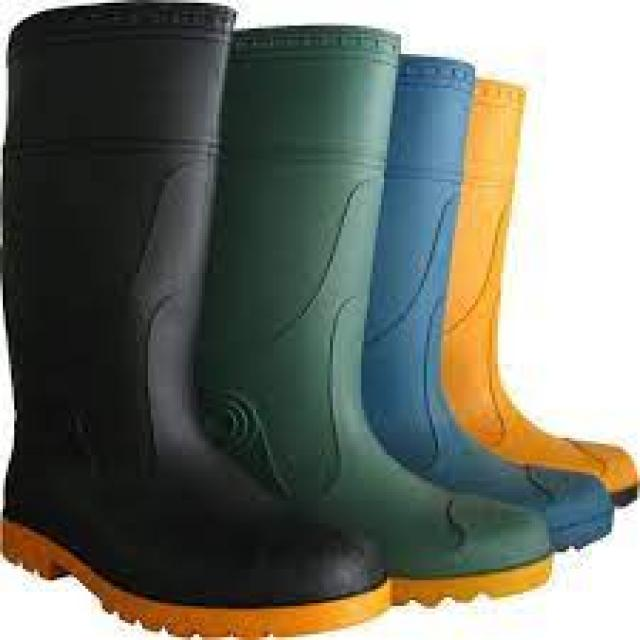shoes: (4, 2, 636, 634)
